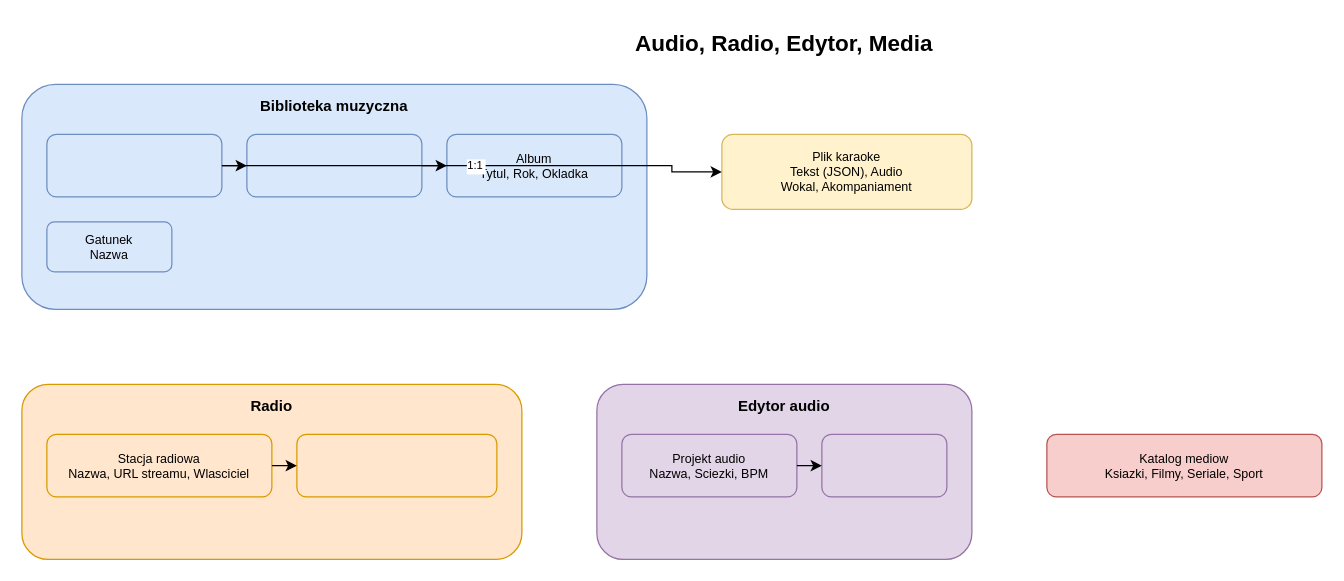
Some shapes in this 1344 by 581 pixel diagram are drawn without their labels. The shapes that lost their labels are listed below. From the top down, each one's centre as x and y in pixels, then its label:
the point at 134,165: Utwor Tytul, ISRC, Czas trwania
the point at 334,165: Artysta Nazwa, Bio, Zdjecie
the point at 396,465: Playlista radiowa Kolejka, Teraz gra
the point at 884,465: Sciezka audio Nazwa, Plik, Efekty
